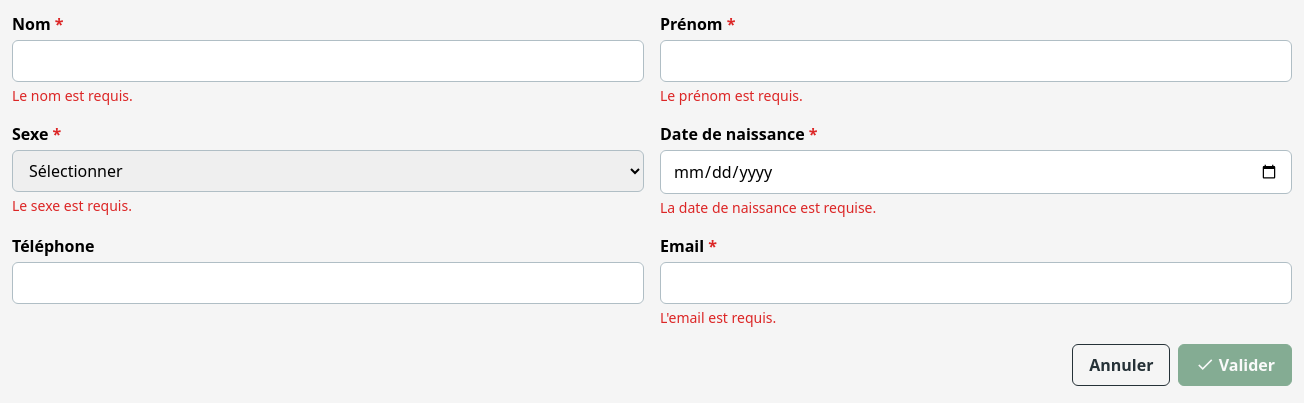
Test case: PatientForm.vue - Validation › Email › doit afficher une erreur si l'email ne contient pas de point après l'arobase
Type "toto@exemple" into the field with id "email". click: {"x": 976, "y": 283}
box: [660,262,1292,304]
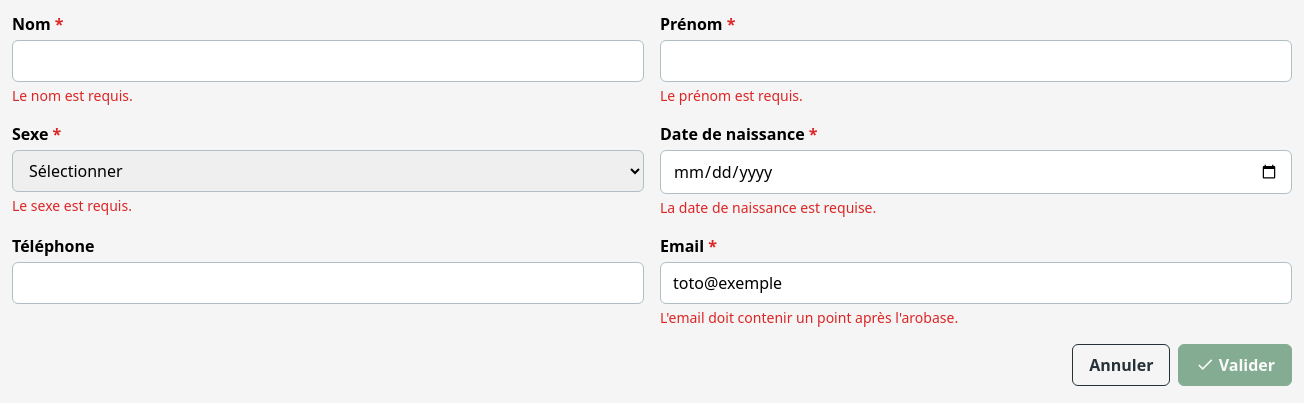
Now the text "L'email doit contenir un point après l'arobase." is shown, box [660,308,958,327]
